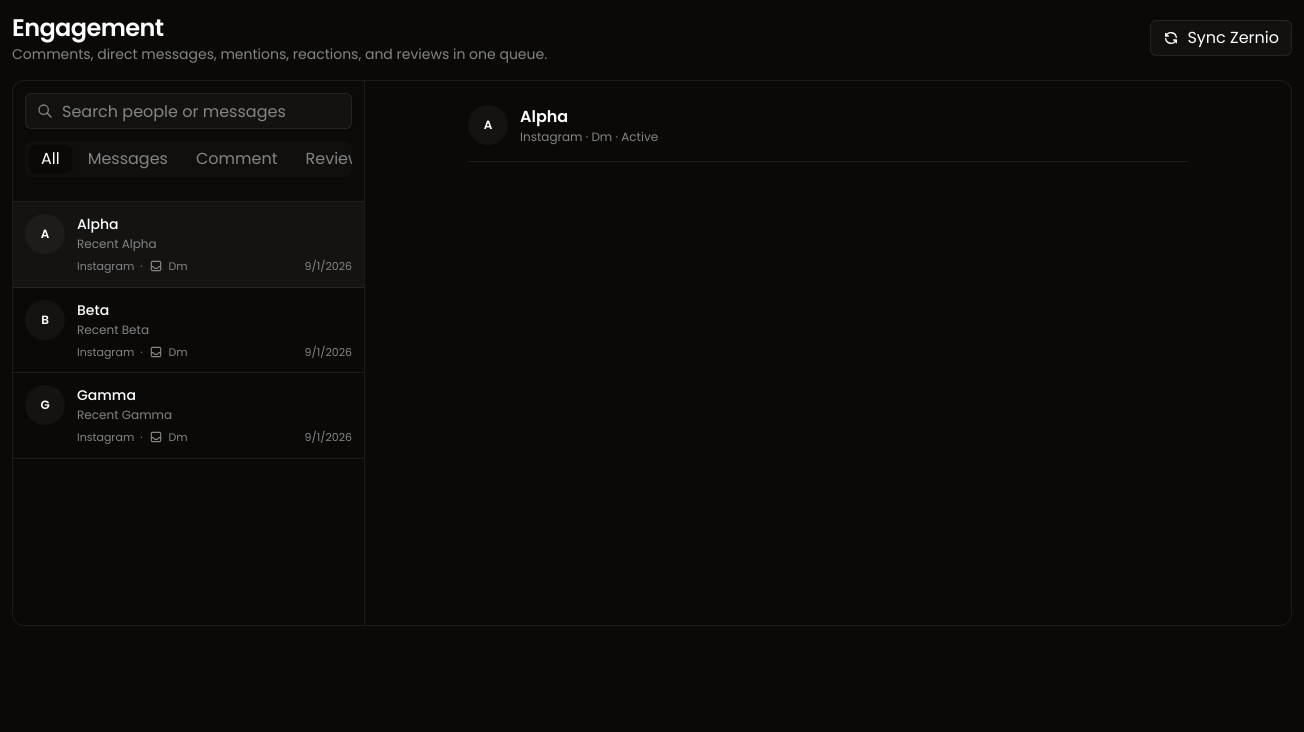
Test: UnifiedInbox › surfaces a selected-conversation error rather than silently keeping stale results
Click the button "B Beta Recent Beta instagram · dm 9/1/2026" at (45, 320), box [13, 288, 364, 373]
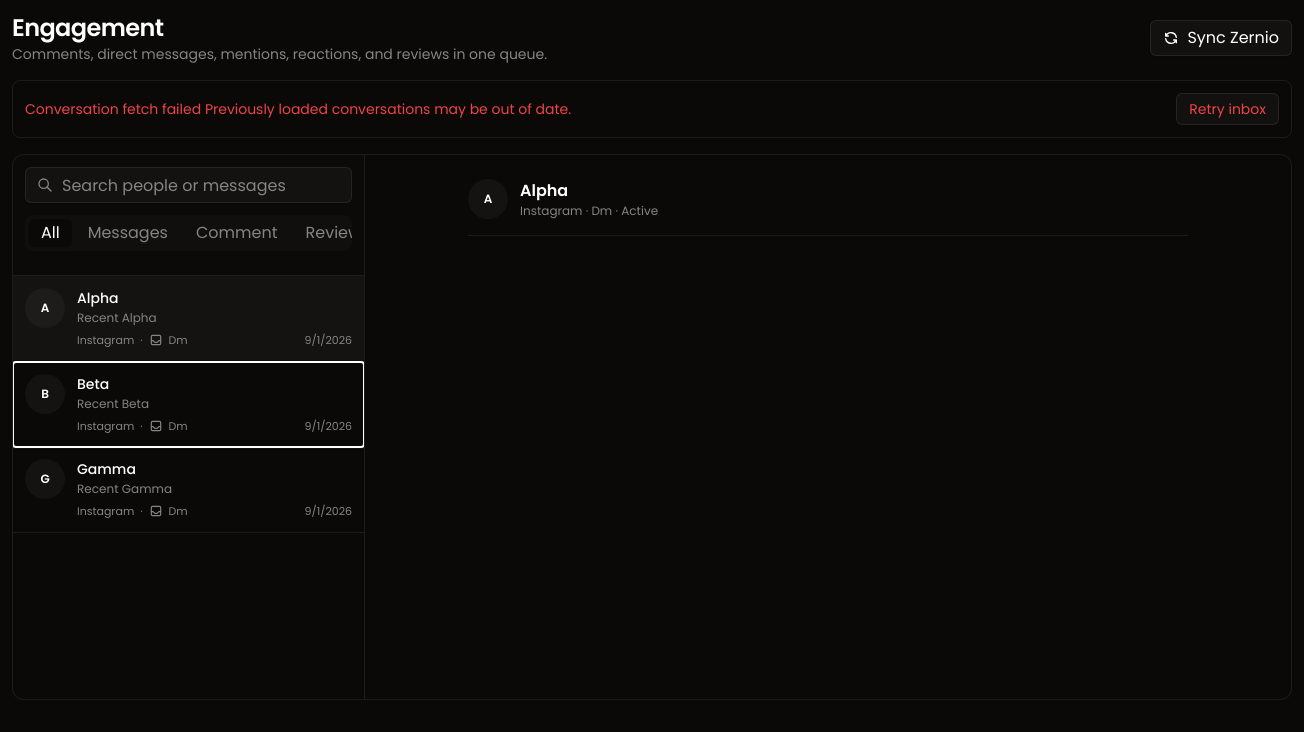
Expected: the heading "Alpha" is shown, [520, 179, 568, 202]
Result: the message shows "Conversation fetch failed" at [25, 99, 201, 119]
